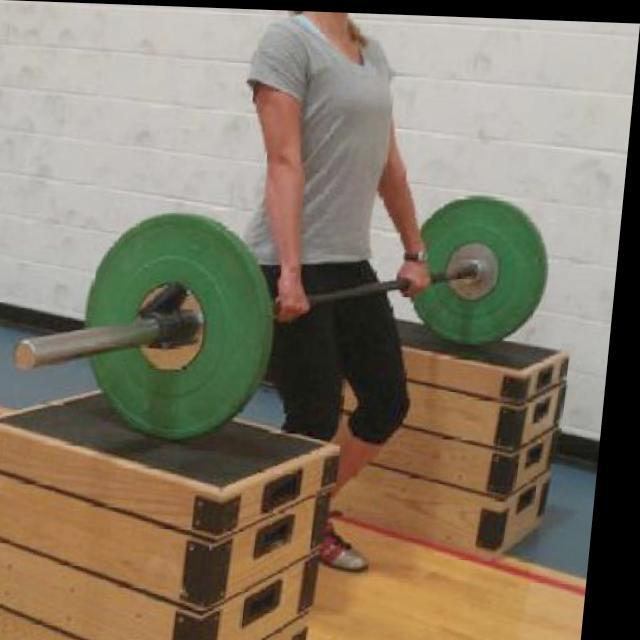barbell: (14, 201, 289, 444)
